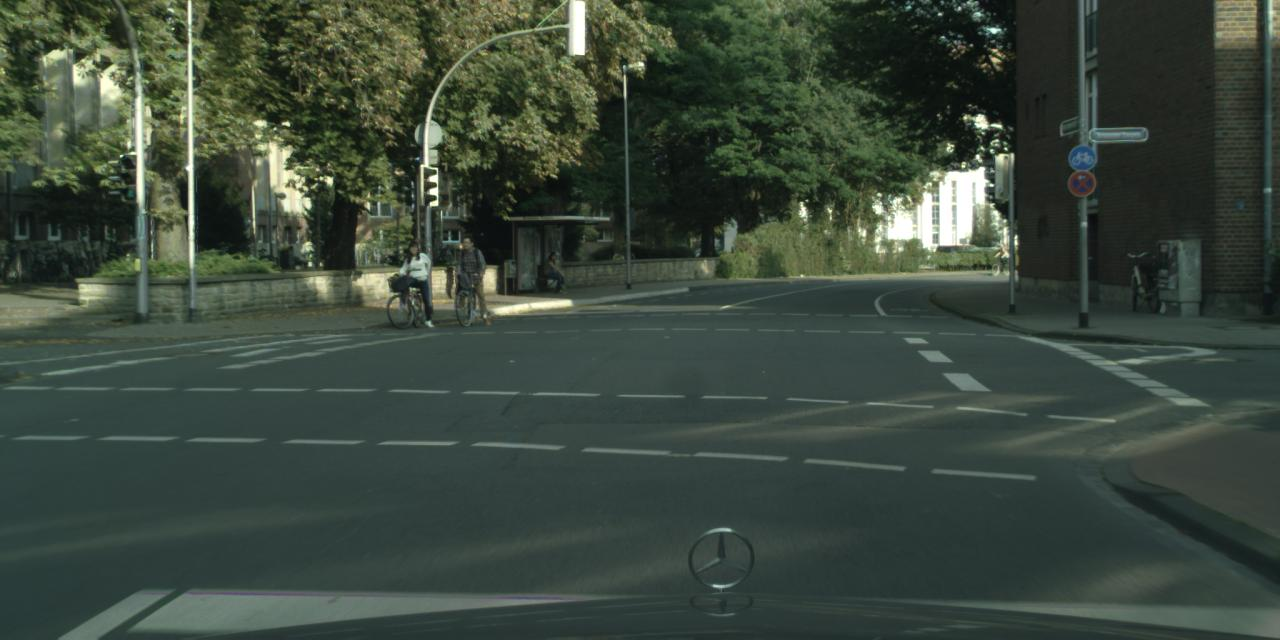ped: (454, 236, 486, 314), (400, 240, 430, 318), (998, 244, 1009, 272)
